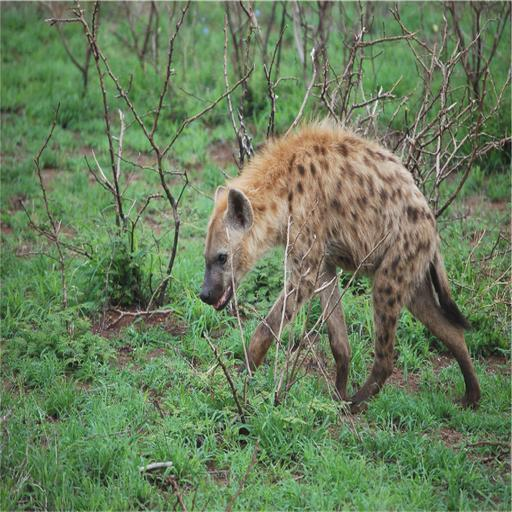hyenas: (194, 83, 496, 460)
